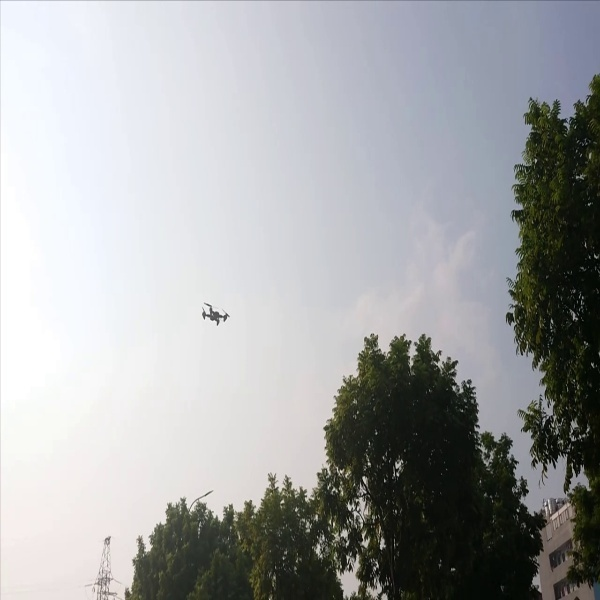drone: (184, 292, 237, 332)
